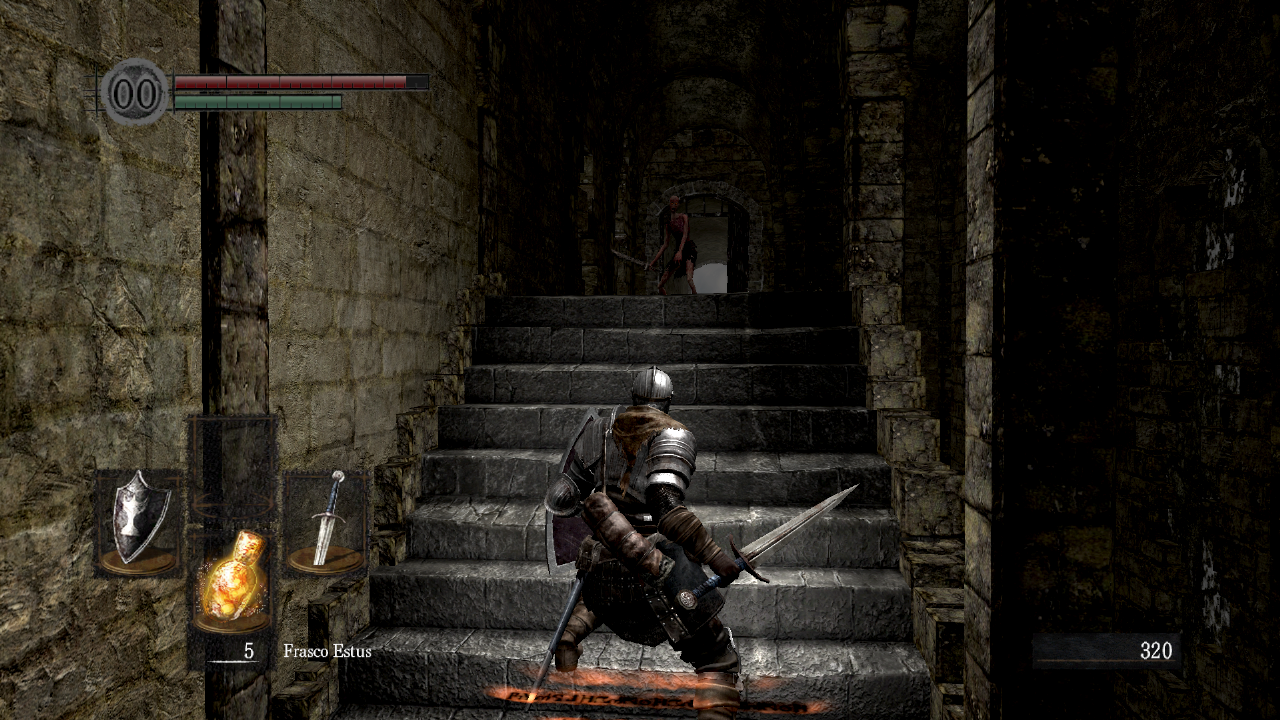hollow: (610, 195, 698, 296)
player: (523, 366, 861, 720)
